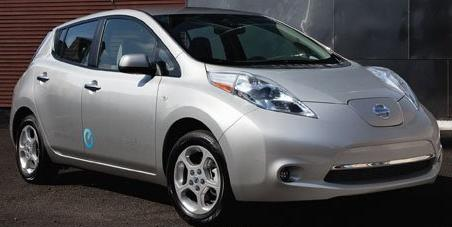Cars: (12, 9, 443, 225)
